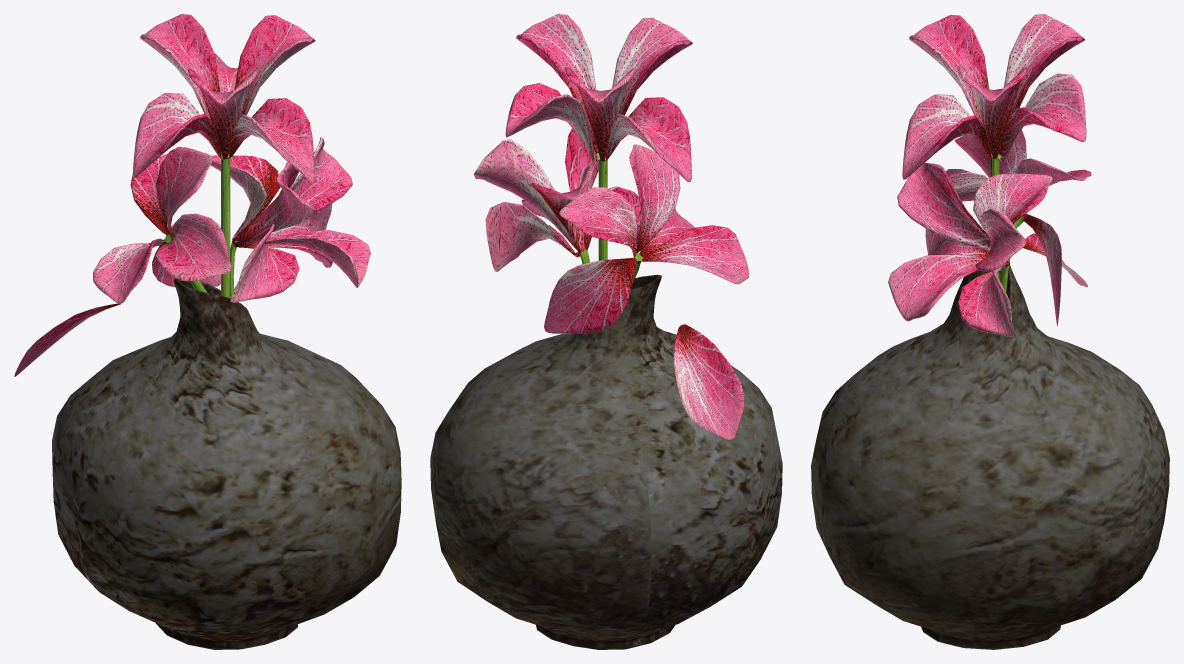
The picture shows the model from 3 angles, left to right: view 1: azimuth 30°, elevation 25°; view 2: azimuth 150°, elevation 25°; view 3: azimuth 270°, elevation 25°; orthographic projection.
Visible parts, largest first — view 1: Vase, TallFlower_2, TallFlower_1, FlowerBase_PartialHead, FallingPetal; view 2: Vase, TallFlower_2, FlowerBase_PartialHead, TallFlower_1, FallingPetal; view 3: Vase, TallFlower_2, TallFlower_1, FlowerBase_PartialHead.
Boxes of the visible parts, x1,y1,x2,y2 form: Vase: (52, 278, 401, 649); TallFlower_2: (133, 14, 315, 297); TallFlower_1: (210, 137, 370, 302); FlowerBase_PartialHead: (93, 147, 231, 303); FallingPetal: (14, 303, 120, 376); Vase: (430, 274, 782, 649); TallFlower_2: (505, 14, 692, 260); FlowerBase_PartialHead: (544, 144, 749, 333); TallFlower_1: (473, 128, 640, 271); FallingPetal: (673, 324, 744, 439); Vase: (811, 265, 1169, 649); TallFlower_2: (902, 14, 1086, 279); TallFlower_1: (888, 162, 1052, 336); FlowerBase_PartialHead: (946, 130, 1091, 326).
Bounding box in the file's own units: 19.08 × 32.8 × 18.36.
5 materials, 5 textured.
